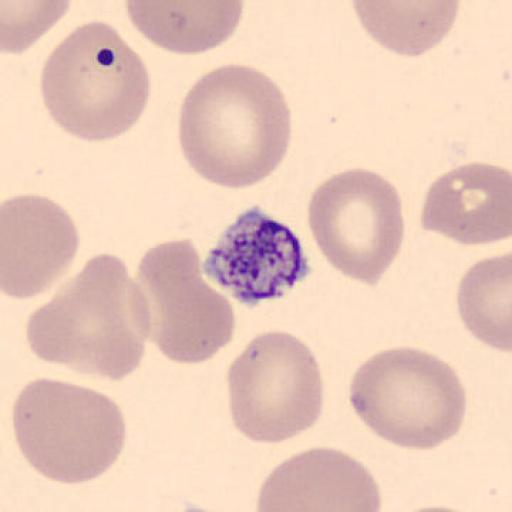Platelet: (200, 205, 314, 307), (92, 45, 116, 69)
RBC: (25, 252, 151, 383), (176, 62, 294, 192), (38, 18, 152, 142), (133, 236, 235, 366), (10, 377, 128, 486), (346, 346, 469, 450), (306, 166, 407, 286), (225, 330, 325, 446), (254, 444, 383, 512), (2, 194, 80, 300), (419, 160, 512, 247), (123, 0, 246, 56), (350, 0, 462, 58), (455, 251, 512, 356), (2, 0, 73, 55), (391, 503, 487, 512)
